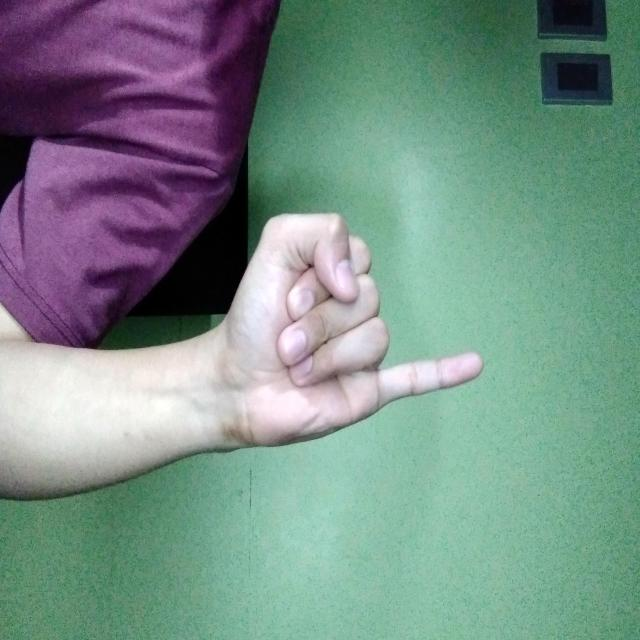I: (210, 154, 450, 418)
